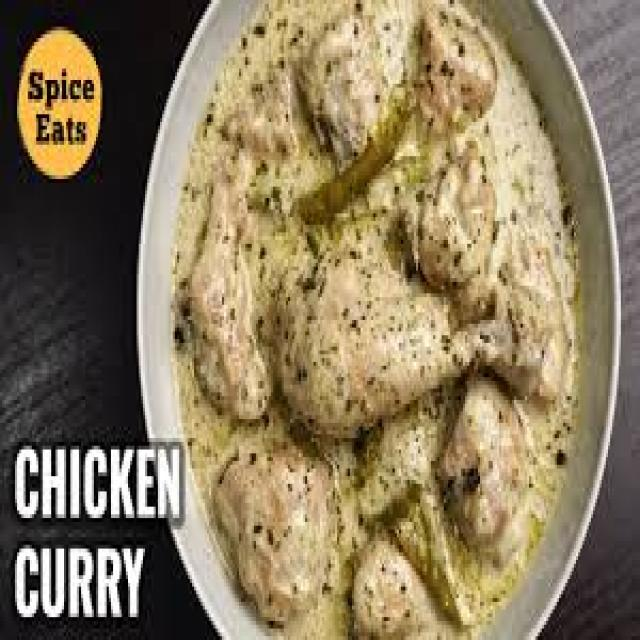Frango: (177, 4, 578, 640)
